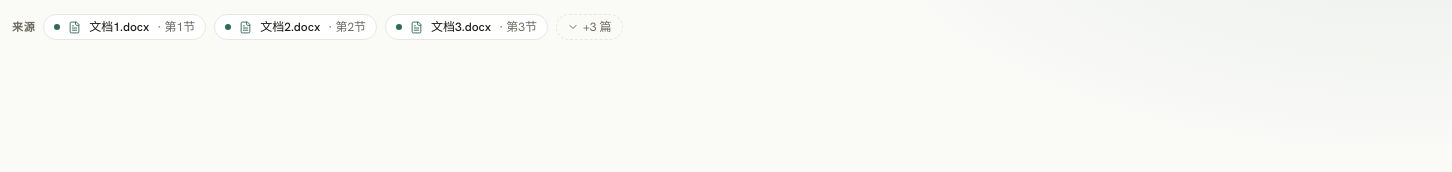
Test: SourceList — 溢出与折叠 › 收起时挂在被折叠 chip 上的详情卡一并关闭；挂在前排的保留
Click the button with test id "src-expand" at point(589, 27), box [556, 14, 623, 40]
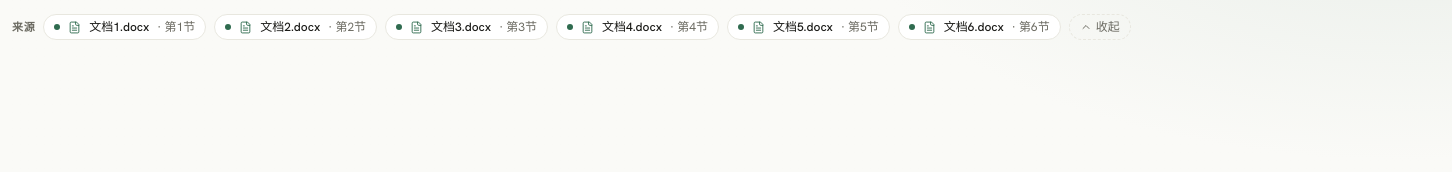
Click the button with test id "citation" at point(808, 27), box [727, 14, 890, 40]
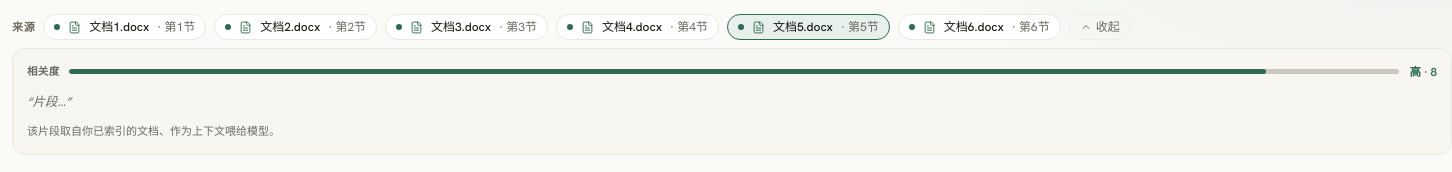
Expected: the text "相关度" is shown, [27, 64, 60, 80]
Click the button with test id "src-collapse" at point(1100, 27), box [1069, 14, 1131, 40]
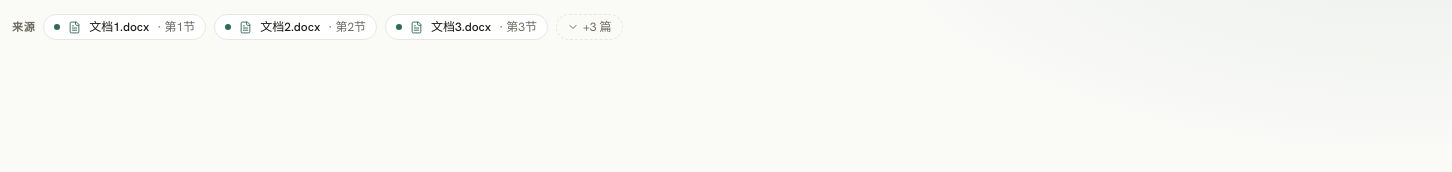
Expected: the text "相关度" is gone
Click the button with test id "citation" at point(125, 27), box [43, 14, 206, 40]
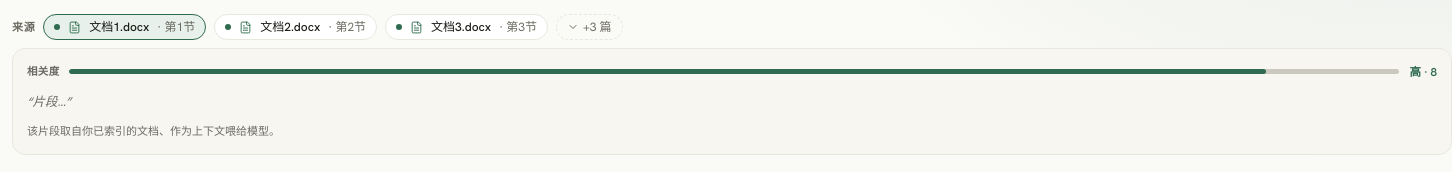
Expected: the text "相关度" is shown, [27, 64, 60, 80]
